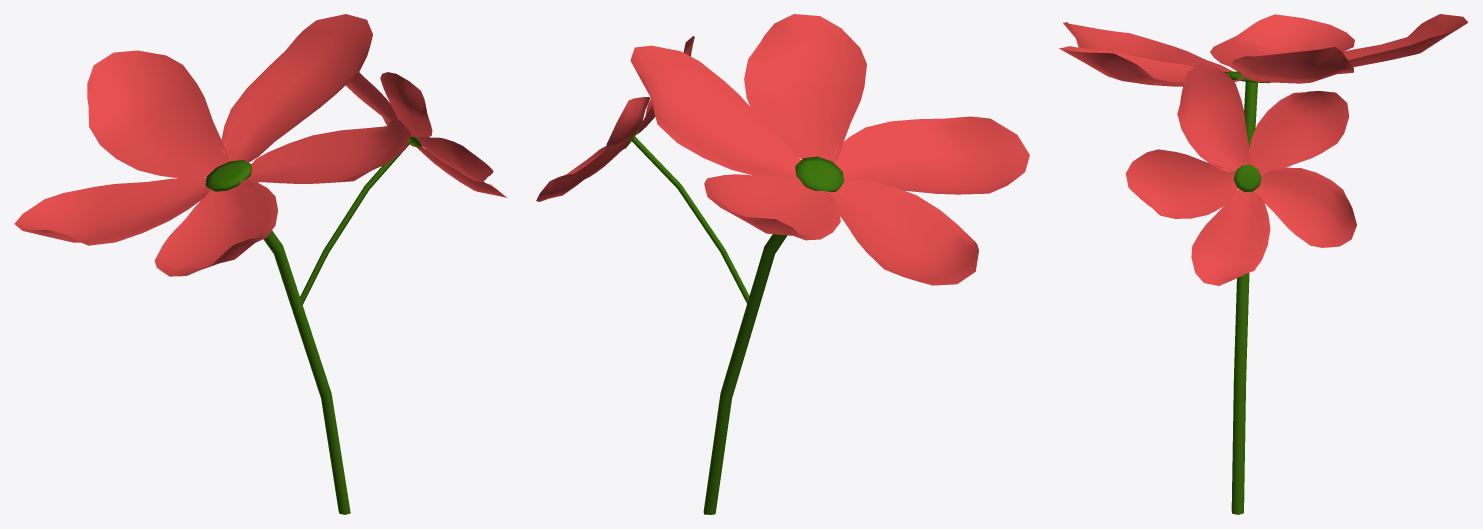
Rendered from Flower.fbx.
3 renders of one model, left to right at view 1: azimuth 30°, elevation 25°; view 2: azimuth 150°, elevation 25°; view 3: azimuth 270°, elevation 25°, orthographic. The views are drawn at different scales.
Visible parts, largest first — view 1: Plane013, Cylinder001; view 2: Plane013, Cylinder001; view 3: Plane013, Cylinder001.
Boxes of the visible parts, box(x1,y1,x2,y2) form: Plane013: box(14, 14, 507, 276); Cylinder001: box(205, 136, 421, 514); Plane013: box(536, 14, 1029, 285); Cylinder001: box(624, 130, 843, 514); Plane013: box(1059, 14, 1467, 285); Cylinder001: box(1224, 71, 1271, 514).
Bounding box in the file's own units: 9.54 × 9.58 × 7.35.
